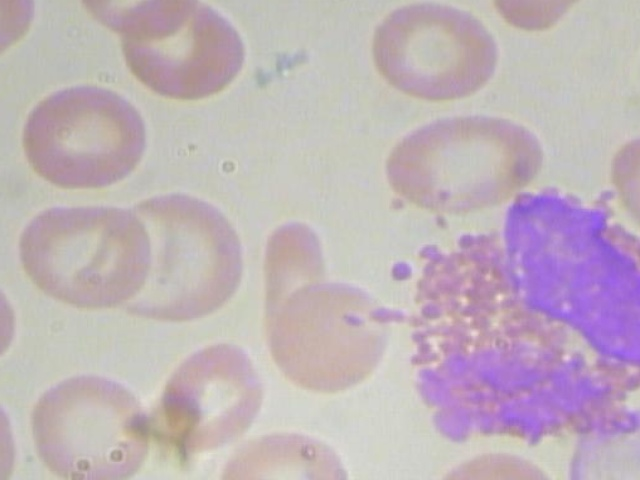RBC: (101, 184, 249, 329), (359, 112, 549, 217), (7, 79, 163, 195), (114, 0, 263, 110), (269, 277, 397, 398), (21, 367, 155, 480), (363, 0, 511, 102), (15, 203, 152, 310), (150, 332, 260, 463), (259, 202, 328, 355), (208, 430, 370, 480), (604, 128, 640, 266)
WBC: (335, 178, 640, 463)
